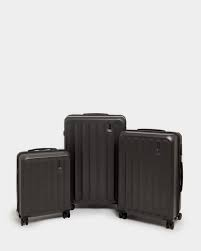suitcase: (116, 127, 185, 230), (62, 112, 129, 212), (14, 148, 72, 226)
